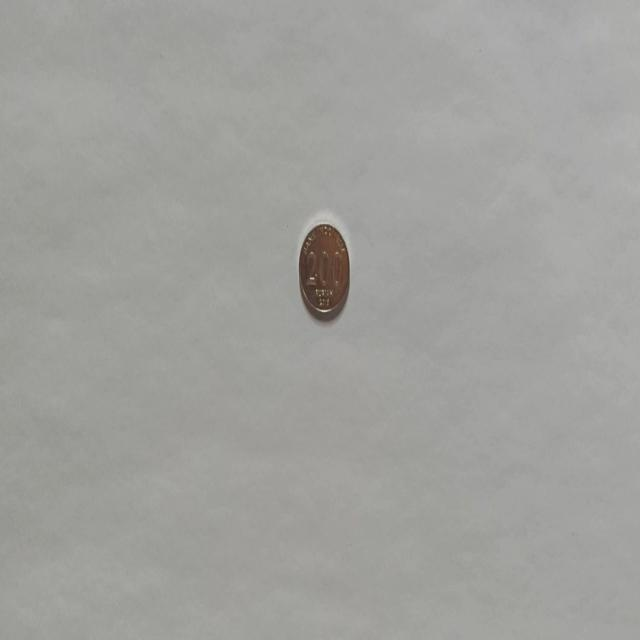dua ratus rupiah: (298, 220, 350, 320)
